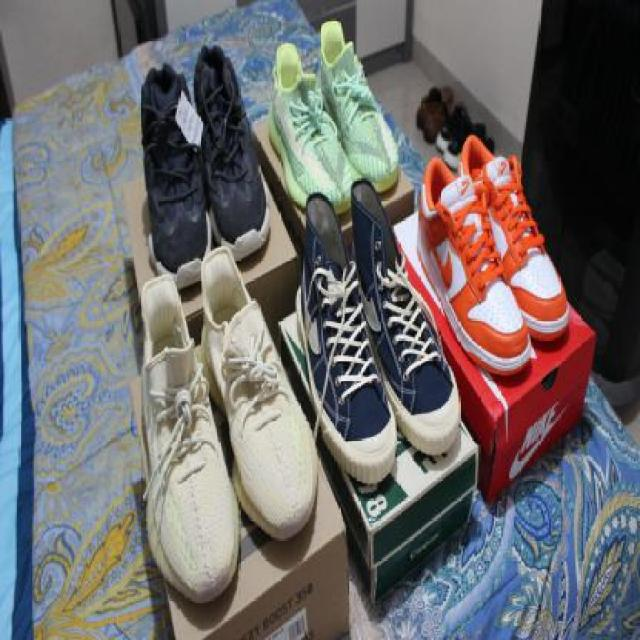shoe: (419, 134, 573, 378), (137, 280, 235, 611), (203, 266, 314, 542), (356, 198, 459, 458), (297, 218, 385, 496), (196, 59, 270, 255), (316, 26, 401, 186), (142, 70, 204, 282), (268, 61, 348, 207)
